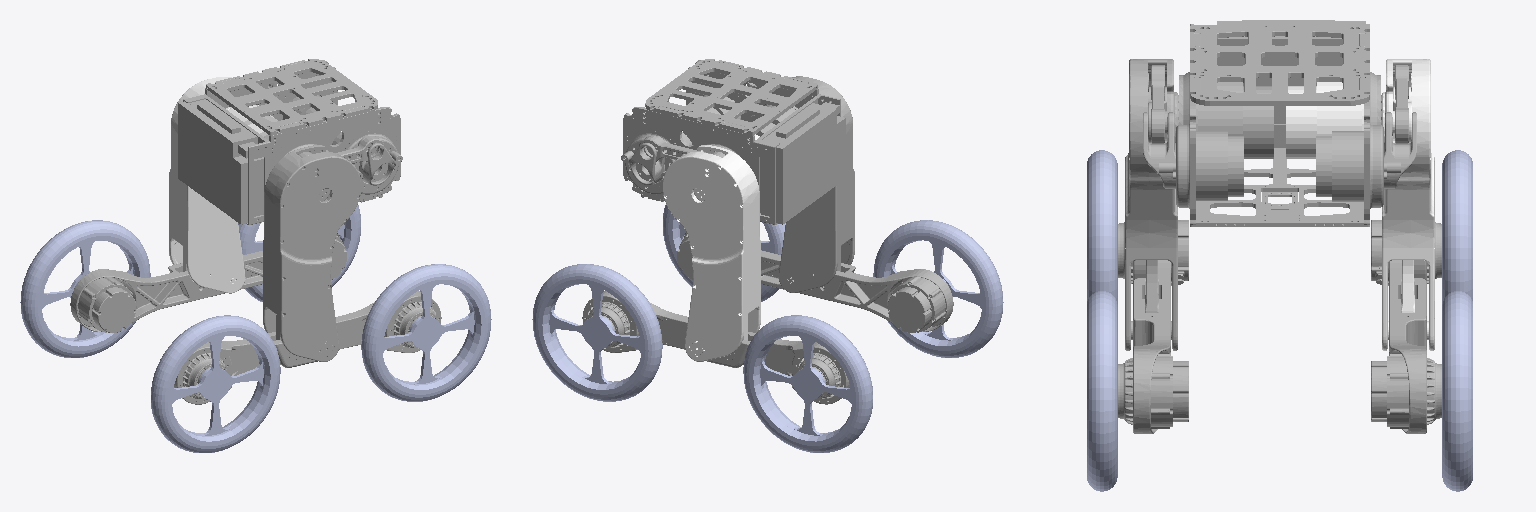
robot.urdf — L2C_URDF02:
<?xml version="1.0" encoding="utf-8"?><!-- This URDF was automatically created by SolidWorks to URDF Exporter! Originally created by Stephen Brawner
(brawner@gmail.com) 
     Commit Version: 1.6.0-1-g15f4949  Build Version: 1.6.7594.29634
     For more information, please see http://wiki.ros.org/sw_urdf_exporter -->
<robot name="L2C_URDF02">
  <!-- <mujoco>
    <compiler meshdir="../meshes" discardvisual="false" balanceinertia="false" />
  </mujoco> -->

  <!-- <link name="world"></link>
  <joint name="base_joint" type="floating">
    <parent link="world" />
    <child link="base_link" />
  </joint> -->
  <link name="base_link">
    <inertial>
      <origin xyz="0.00053 -0.00121 0.12395" rpy="0 0 0" />
      <mass value="27.9" />
      <inertia ixx="0.78175" ixy="-0.00033086" ixz="-0.021881" iyy="0.42189" iyz="-0.0010877" izz="0.95262" />
    </inertial>
    <visual>
      <origin xyz="0 0 0" rpy="0 0 0" />
      <geometry>
        <mesh filename="../meshes/base_link.STL" />
      </geometry>
      <material name="">
        <color rgba="0.75294 0.75294 0.75294 1" />
      </material>
    </visual>
    <collision>
      <origin xyz="0 0 0" rpy="0 0 0" />
      <geometry>
        <mesh filename="../meshes/base_link.STL" />
      </geometry>
    </collision>
  </link>
  <link name="right_hip_link">
    <inertial>
      <origin xyz="-0.02309 -0.00735 -0.06211" rpy="0 0 0" />
      <mass value="18.34" />
      <inertia ixx="0.3778" ixy="0.024932" ixz="0.044759" iyy="0.33868" iyz="0.061867" izz="0.14076" />
    </inertial>
    <visual>
      <origin xyz="0 0 0" rpy="0 0 0" />
      <geometry>
        <mesh filename="../meshes/right_hip_link.STL" />
      </geometry>
      <material name="">
        <color rgba="0.75294 0.75294 0.75294 1" />
      </material>
    </visual>
    <collision>
      <origin xyz="0 0 0" rpy="0 0 0" />
      <geometry>
        <mesh filename="../meshes/right_hip_link.STL" />
      </geometry>
    </collision>
  </link>
  <joint name="right_hip_joint" type="revolute">
    <origin xyz="-0.107 -0.1605 0.098" rpy="0 0 0" />
    <parent link="base_link" />
    <child link="right_hip_link" />
    <axis xyz="0 1 0" />
    <limit lower="-0.3665" upper="1.0472" effort="745" velocity="2.9322" />
  </joint>
  <link name="right_knee_link">
    <inertial>
      <origin xyz="-0.03675 -0.0441 -0.0002" rpy="0 0 0" />
      <mass value="12.59" />
      <inertia ixx="0.074717" ixy="0.0022068" ixz="-0.00017556" iyy="0.88598" iyz="-0.00013118" izz="0.85861" />
    </inertial>
    <visual>
      <origin xyz="0 0 0" rpy="0 0 0" />
      <geometry>
        <mesh filename="../meshes/right_knee_link.STL" />
      </geometry>
      <material name="">
        <color rgba="0.75294 0.75294 0.75294 1" />
      </material>
    </visual>
    <collision>
      <origin xyz="0 0 0" rpy="0 0 0" />
      <geometry>
        <mesh filename="../meshes/right_knee_link.STL" />
      </geometry>
    </collision>
  </link>
  <joint name="right_knee_joint" type="revolute">
    <origin xyz="0 -0.0635 -0.4" rpy="0 0 0" />
    <parent link="right_hip_link" />
    <child link="right_knee_link" />
    <axis xyz="0 1 0" />
    <limit lower="-1.0472" upper="0.3840" effort="880" velocity="5.6549" />
  </joint>
  <link name="fr_wheel_link">
    <inertial>
      <origin xyz="0 -0.019711 0" rpy="0 0 0" />
      <mass value="2.76" />
      <inertia ixx="0.030178" ixy="0" ixz="0" iyy="0.059327" iyz="0" izz="0.030178" />
    </inertial>
    <visual>
      <origin xyz="0 0 0" rpy="0 0 0" />
      <geometry>
        <mesh filename="../meshes/fr_wheel_link.STL" />
      </geometry>
      <material name="">
        <color rgba="0.79216 0.81961 0.93333 1" />
      </material>
    </visual>
    <collision>
      <origin xyz="0 -0.02 0" rpy="1.5707963 0 0" />
      <geometry>
        <!-- <mesh filename="../meshes/fr_wheel_link.STL" /> -->
        <cylinder radius="0.175" length="0.05"/>
      </geometry>
    </collision>
  </link>
  <joint name="fr_wheel_joint" type="revolute">
    <origin xyz="0.25 -0.06575 0" rpy="0 0 0" />
    <parent link="right_knee_link" />
    <child link="fr_wheel_link" />
    <axis xyz="0 1 0" />
    <limit lower="-999999" upper="999999" effort="460" velocity="5" />
  </joint>
  <link name="rr_wheel_link">
    <inertial>
      <origin xyz="0 -0.019711 0" rpy="0 0 0" />
      <mass value="2.76" />
      <inertia ixx="0.030178" ixy="0" ixz="0" iyy="0.059327" iyz="0" izz="0.030178" />
    </inertial>
    <visual>
      <origin xyz="0 0 0" rpy="0 0 0" />
      <geometry>
        <mesh filename="../meshes/rr_wheel_link.STL" />
      </geometry>
      <material name="">
        <color rgba="0.79216 0.81961 0.93333 1" />
      </material>
    </visual>
    <collision>
      <origin xyz="0 -0.02 0" rpy="1.5707963 0 0" />
      <geometry>
        <!-- <mesh filename="../meshes/rr_wheel_link.STL" /> -->
        <cylinder radius="0.175" length="0.05"/>
      </geometry>
    </collision>
  </link>
  <joint name="rr_wheel_joint" type="revolute">
    <origin xyz="-0.33 -0.06575 0" rpy="0 0 0" />
    <parent link="right_knee_link" />
    <child link="rr_wheel_link" />
    <axis xyz="0 1 0" />
    <limit lower="-999999" upper="999999" effort="460" velocity="5" />
  </joint>
  <link name="left_hip_link">
    <inertial>
      <origin xyz="-0.02308 0.00645 -0.06214" rpy="0 0 0" />
      <mass value="18.33" />
      <inertia ixx="0.37772" ixy="-0.024961" ixz="0.044754" iyy="0.33863" iyz="-0.061797" izz="0.14077" />
    </inertial>
    <visual>
      <origin xyz="0 0 0" rpy="0 0 0" />
      <geometry>
        <mesh filename="../meshes/left_hip_link.STL" />
      </geometry>
      <material name="">
        <color rgba="1 1 1 1" />
      </material>
    </visual>
    <collision>
      <origin xyz="0 0 0" rpy="0 0 0" />
      <geometry>
        <mesh filename="../meshes/left_hip_link.STL" />
      </geometry>
    </collision>
  </link>
  <joint name="left_hip_joint" type="revolute">
    <origin xyz="-0.107 0.1605 0.098" rpy="0 0 0" />
    <parent link="base_link" />
    <child link="left_hip_link" />
    <axis xyz="0 1 0" />
    <limit lower="-0.3665" upper="1.0472" effort="745" velocity="2.9322" />
  </joint>
  <link name="left_knee_link">
    <inertial>
      <origin xyz="-0.03688 0.04409 -0.00021" rpy="0 0 0" />
      <mass value="12.6" />
      <inertia ixx="0.074726" ixy="-0.0021482" ixz="-0.00010085" iyy="0.886" iyz="0.00013588" izz="0.85863" />
    </inertial>
    <visual>
      <origin xyz="0 0 0" rpy="0 0 0" />
      <geometry>
        <mesh filename="../meshes/left_knee_link.STL" />
      </geometry>
      <material name="">
        <color rgba="0.75294 0.75294 0.75294 1" />
      </material>
    </visual>
    <collision>
      <origin xyz="0 0 0" rpy="0 0 0" />
      <geometry>
        <mesh filename="../meshes/left_knee_link.STL" />
      </geometry>
    </collision>
  </link>
  <joint name="left_knee_joint" type="revolute">
    <origin xyz="0 0.0635 -0.4" rpy="0 0 0" />
    <parent link="left_hip_link" />
    <child link="left_knee_link" />
    <axis xyz="0 1 0" />
    <limit lower="-1.0472" upper="0.3840" effort="880" velocity="5.6549" />
  </joint>
  <link name="fl_wheel_link">
    <inertial>
      <origin xyz="0 0.019711 0" rpy="0 0 0" />
      <mass value="2.76" />
      <inertia ixx="0.030178" ixy="0" ixz="0" iyy="0.059327" iyz="0" izz="0.030178" />
    </inertial>
    <visual>
      <origin xyz="0 0 0" rpy="0 0 0" />
      <geometry>
        <mesh filename="../meshes/fl_wheel_link.STL" />
      </geometry>
      <material name="">
        <color rgba="0.79216 0.81961 0.93333 1" />
      </material>
    </visual>
    <collision>
      <origin xyz="0 0.02 0" rpy="1.5707963 0 0"/>
      <geometry>
        <!-- <mesh filename="../meshes/fl_wheel_link.STL" /> -->
        <cylinder radius="0.175" length="0.05"/>
      </geometry>
    </collision>
  </link>
  <joint name="fl_wheel_joint" type="revolute">
    <origin xyz="0.25 0.06575 0" rpy="0 0 0" />
    <parent link="left_knee_link" />
    <child link="fl_wheel_link" />
    <axis xyz="0 1 0" />
    <limit lower="-999999" upper="999999" effort="460" velocity="5" />
  </joint>
  <link name="rl_wheel_link">
    <inertial>
      <origin xyz="0 0.019711 0" rpy="0 0 0" />
      <mass value="2.76" />
      <inertia ixx="0.030178" ixy="0" ixz="0" iyy="0.059327" iyz="0" izz="0.030178" />
    </inertial>
    <visual>
      <origin xyz="0 0 0" rpy="0 0 0" />
      <geometry>
        <mesh filename="../meshes/rl_wheel_link.STL" />
      </geometry>
      <material name="">
        <color rgba="0.79216 0.81961 0.93333 1" />
      </material>
    </visual>
    <collision>
      <origin xyz="0 0.02 0" rpy="1.5707963 0 0"/>
      <geometry>
        <!-- <mesh filename="../meshes/rl_wheel_link.STL" /> -->
        <cylinder radius="0.175" length="0.05"/>
      </geometry>
    </collision>
  </link>
  <joint name="rl_wheel_joint" type="revolute">
    <origin xyz="-0.33 0.06575 0" rpy="0 0 0" />
    <parent link="left_knee_link" />
    <child link="rl_wheel_link" />
    <axis xyz="0 1 0" />
    <limit lower="-999999" upper="999999" effort="460" velocity="5" />
  </joint>
</robot>

--- Render facts (derived) ---
Views: 3 orthographic renders of the robot side by side, from view 1: azimuth 30°, elevation 25°; view 2: azimuth 150°, elevation 25°; view 3: azimuth 270°, elevation 25°.
Model L2C_URDF02 with 9 links and 8 joints (8 revolute), rooted at base_link, posed all joints at 0.
Links seen in each view (by area): view 1: base_link, right_hip_link, rr_wheel_link, fr_wheel_link, left_hip_link, left_knee_link, rl_wheel_link, right_knee_link, fl_wheel_link; view 2: base_link, left_hip_link, rl_wheel_link, fl_wheel_link, right_hip_link, right_knee_link, rr_wheel_link, left_knee_link, fr_wheel_link; view 3: base_link, left_hip_link, right_hip_link, right_knee_link, left_knee_link, fr_wheel_link, fl_wheel_link, rr_wheel_link, rl_wheel_link.
Link boxes in pixels (x1,y1,x2,y2): base_link: [178, 59, 402, 224]; right_hip_link: [263, 135, 360, 361]; rr_wheel_link: [151, 315, 280, 452]; fr_wheel_link: [361, 264, 491, 401]; left_hip_link: [169, 77, 277, 293]; left_knee_link: [70, 232, 346, 332]; rl_wheel_link: [20, 220, 150, 357]; right_knee_link: [174, 291, 441, 404]; fl_wheel_link: [238, 205, 360, 301]; base_link: [621, 59, 845, 224]; left_hip_link: [663, 134, 760, 361]; rl_wheel_link: [743, 315, 872, 452]; fl_wheel_link: [532, 264, 662, 401]; right_hip_link: [746, 76, 854, 292]; right_knee_link: [677, 232, 953, 332]; rr_wheel_link: [873, 220, 1003, 357]; left_knee_link: [582, 291, 849, 404]; fr_wheel_link: [663, 205, 785, 301]; base_link: [1143, 20, 1416, 226]; left_hip_link: [1286, 59, 1434, 350]; right_hip_link: [1125, 59, 1273, 350]; right_knee_link: [1118, 220, 1188, 433]; left_knee_link: [1371, 220, 1441, 433]; fr_wheel_link: [1087, 291, 1117, 491]; fl_wheel_link: [1442, 291, 1472, 491]; rr_wheel_link: [1087, 150, 1117, 303]; rl_wheel_link: [1442, 150, 1472, 303].
Size in the robot's own frame: 0.9294 by 0.6742 by 0.7194 metres.
9 mesh visuals loaded from 9 distinct referenced files (9 binary STL).
